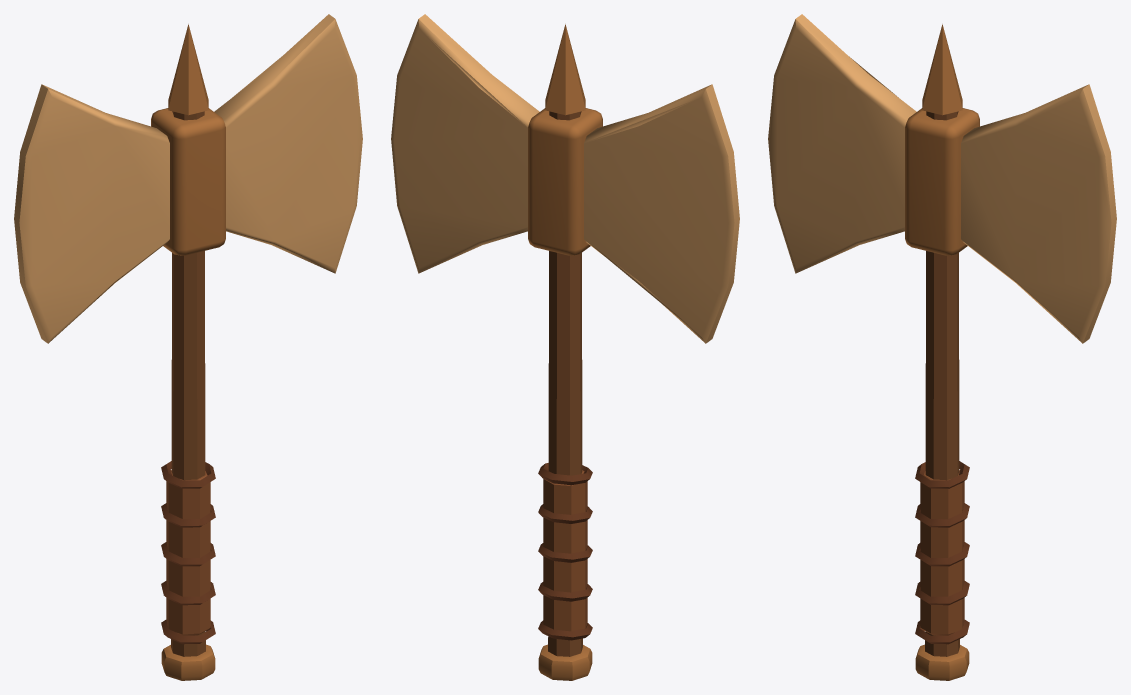
The model's file is WoodBattleAxe.fbx.
The picture shows the model from 3 angles, left to right: view 1: azimuth 30°, elevation 25°; view 2: azimuth 150°, elevation 25°; view 3: azimuth 330°, elevation 25°; orthographic projection.
Parts seen in each view (by area): view 1: WoodBattleAxe; view 2: WoodBattleAxe; view 3: WoodBattleAxe.
Boxes of the visible parts, x1,y1,x2,y2 form: WoodBattleAxe: [14, 14, 362, 680]; WoodBattleAxe: [391, 14, 739, 680]; WoodBattleAxe: [768, 14, 1116, 680].
Size of the model in its own units: 2.2 by 3.97 by 0.34.
1 material, 1 textured.
